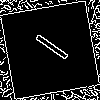I: (25, 25, 71, 63)
